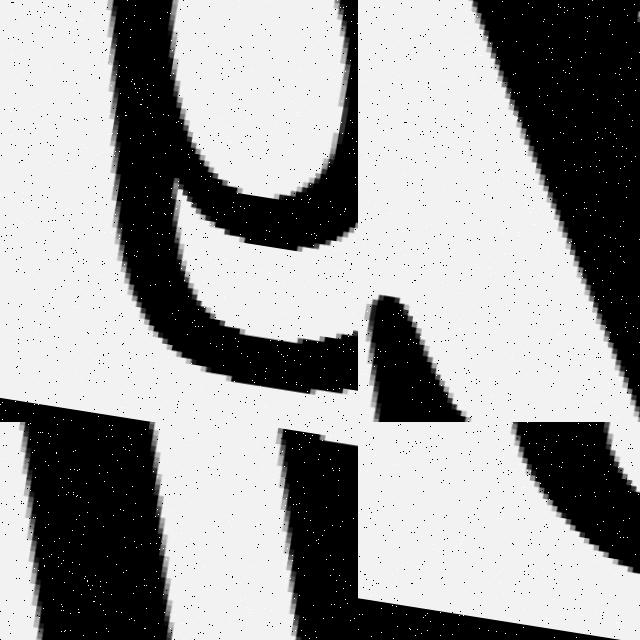5: (476, 422, 640, 616)
G: (14, 0, 358, 410)
U: (0, 422, 358, 640)
Z: (358, 0, 640, 422)
